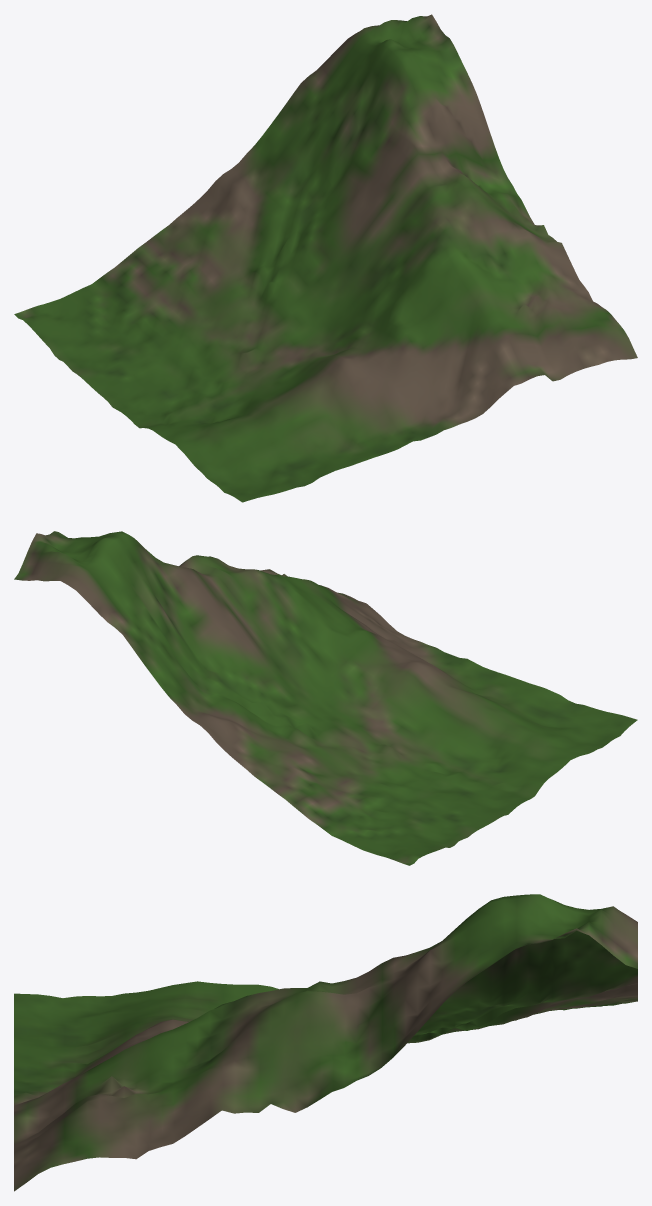
File: chunk6-7_LOD0.obj
3 renders of one model, top to bottom at view 1: azimuth 30°, elevation 25°; view 2: azimuth 150°, elevation 25°; view 3: azimuth 270°, elevation 25°, orthographic. The views are drawn at different scales.
Visible parts, largest first — view 1: chunk_6_7_LOD0; view 2: chunk_6_7_LOD0; view 3: chunk_6_7_LOD0.
Part boxes in pixels (x1=…): chunk_6_7_LOD0: x1=14, y1=14, x2=637, y2=502; chunk_6_7_LOD0: x1=14, y1=531, x2=637, y2=865; chunk_6_7_LOD0: x1=14, y1=894, x2=637, y2=1191.
Size of the model in its own units: 1994 by 1181 by 1994.
1 material, 1 textured.
